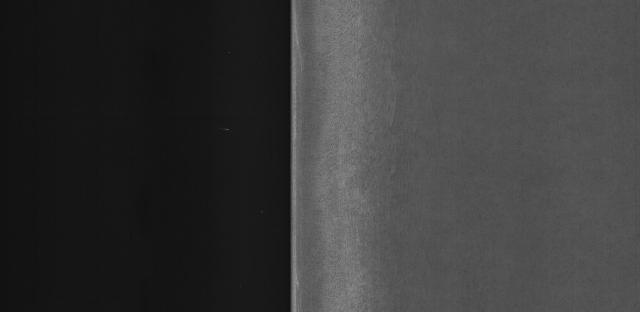silk_spot: (344, 42, 432, 263)
